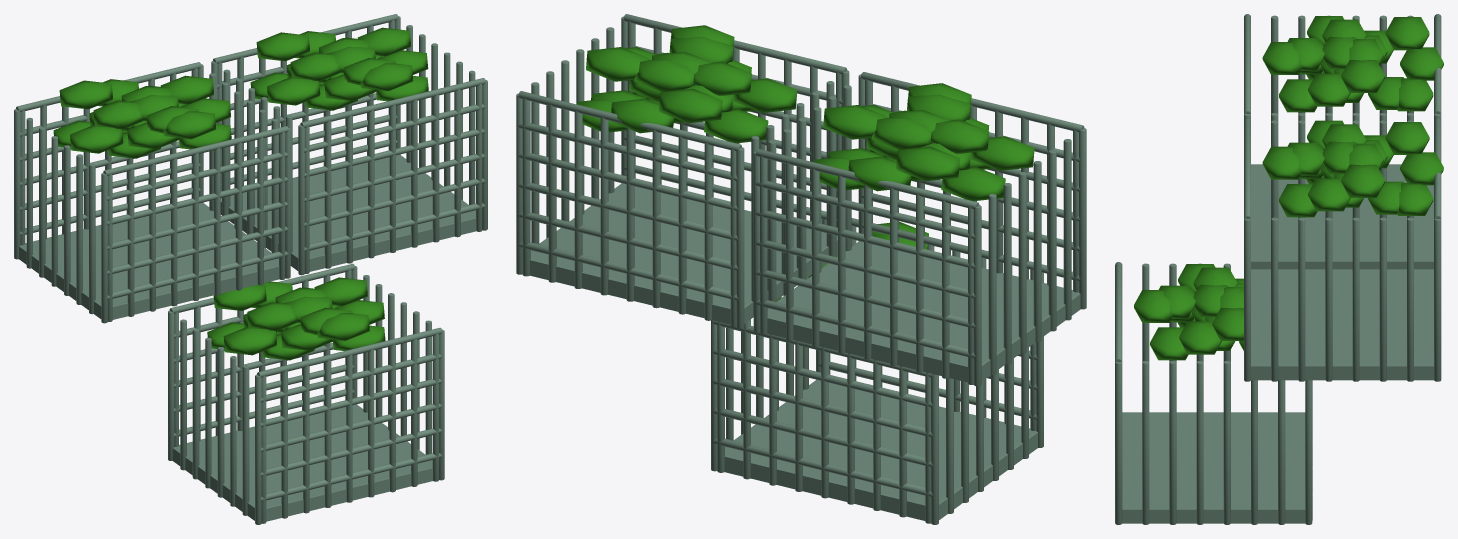
3 views of the same model, side by side, from view 1: azimuth 30°, elevation 25°; view 2: azimuth 150°, elevation 25°; view 3: azimuth 270°, elevation 25° (orthographic). The views are drawn at different scales.
Visible parts, largest first — view 1: TI050 / crate floor.002, TI050 / crate floor, TI050 / crate floor.001, TI050 / crate lattice rail.029, TI050 / crate lattice rail.017, TI050 / crate lattice rail.005, TI050 / coiled seaweed fill.039, TI050 / coiled seaweed fill.014, TI050 / coiled seaweed fill.029, TI050 / coiled seaweed fill.054, TI050 / coiled seaweed fill.004, TI050 / crate end lattice.037 (+109 smaller); view 2: TI050 / crate floor, TI050 / crate floor.002, TI050 / crate floor.001, TI050 / coiled seaweed fill.039, TI050 / coiled seaweed fill.014, TI050 / crate lattice rail.011, TI050 / crate lattice rail.023, TI050 / crate lattice rail.031, TI050 / crate lattice rail.030, TI050 / crate lattice rail.032, TI050 / crate lattice rail.033, TI050 / crate lattice rail.022 (+93 smaller); view 3: TI050 / crate floor.002, TI050 / crate floor.001, TI050 / crate floor, TI050 / crate end lattice.026, TI050 / crate end lattice.028, TI050 / crate end lattice.027, TI050 / crate end lattice.025, TI050 / crate end lattice.029, TI050 / crate end lattice.042, TI050 / crate end lattice.041, TI050 / crate end lattice.043, TI050 / crate end lattice.044 (+50 smaller).
Boxes of the visible parts, box(x1,y1,x2,y2) form: TI050 / crate floor.002: box(172, 404, 432, 521); TI050 / crate floor: box(19, 202, 279, 319); TI050 / crate floor.001: box(220, 154, 476, 271); TI050 / crate lattice rail.029: box(257, 327, 442, 377); TI050 / crate lattice rail.017: box(300, 78, 485, 127); TI050 / crate lattice rail.005: box(103, 126, 288, 175); TI050 / coiled seaweed fill.039: box(256, 32, 309, 61); TI050 / coiled seaweed fill.014: box(59, 80, 112, 109); TI050 / coiled seaweed fill.029: box(267, 77, 320, 105); TI050 / coiled seaweed fill.054: box(223, 326, 276, 355); TI050 / coiled seaweed fill.004: box(70, 125, 123, 153); TI050 / crate end lattice.037: box(192, 328, 199, 479); TI050 / crate floor: box(767, 241, 1080, 382); TI050 / crate floor.002: box(724, 379, 1038, 520); TI050 / crate floor.001: box(530, 183, 837, 324); TI050 / coiled seaweed fill.039: box(658, 88, 722, 123); TI050 / coiled seaweed fill.014: box(896, 146, 959, 181); TI050 / crate lattice rail.011: box(755, 149, 979, 209); TI050 / crate lattice rail.023: box(518, 91, 741, 151); TI050 / crate lattice rail.031: box(713, 408, 932, 466); TI050 / crate lattice rail.030: box(713, 438, 932, 496); TI050 / crate lattice rail.032: box(713, 378, 932, 437); TI050 / crate lattice rail.033: box(713, 349, 932, 407); TI050 / crate lattice rail.022: box(518, 122, 738, 181); TI050 / crate floor.002: box(1122, 412, 1305, 523); TI050 / crate floor.001: box(1251, 269, 1433, 380); TI050 / crate floor: box(1251, 164, 1433, 269); TI050 / crate end lattice.026: box(1298, 217, 1305, 381); TI050 / crate end lattice.028: box(1352, 217, 1359, 381); TI050 / crate end lattice.027: box(1325, 217, 1332, 381); TI050 / crate end lattice.025: box(1271, 217, 1278, 381); TI050 / crate end lattice.029: box(1379, 217, 1386, 381); TI050 / crate end lattice.042: box(1169, 360, 1176, 524); TI050 / crate end lattice.041: box(1142, 360, 1149, 524); TI050 / crate end lattice.043: box(1196, 360, 1203, 524); TI050 / crate end lattice.044: box(1223, 360, 1230, 524).
Bounding box in the file's own units: 2.45 × 2.14 × 1.66.
